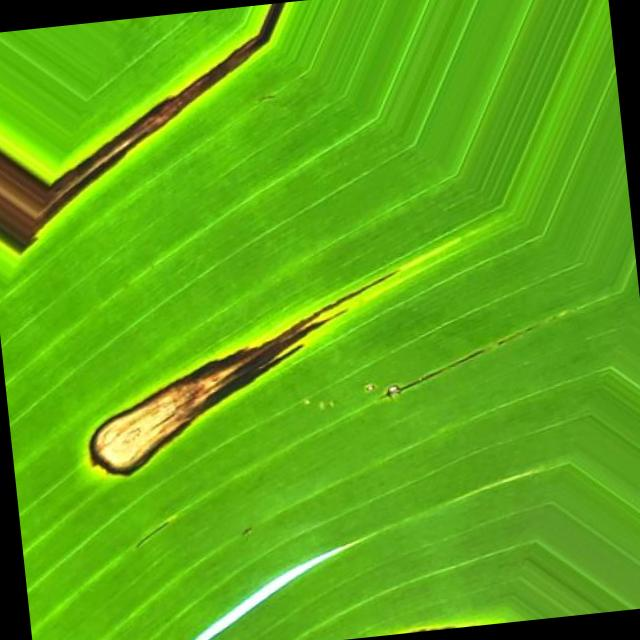Banana_Black_Sigatoka: (63, 269, 444, 546), (0, 53, 240, 242)
